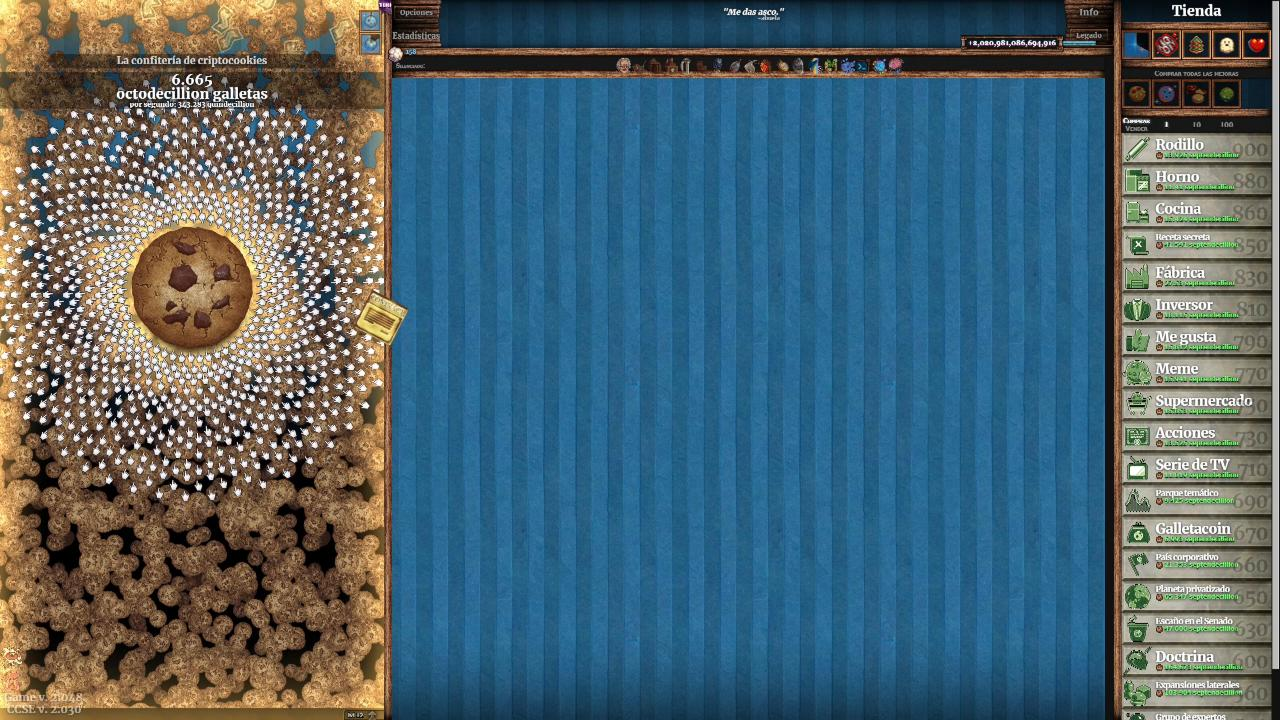GoldenCartridge: (352, 290, 411, 348)
